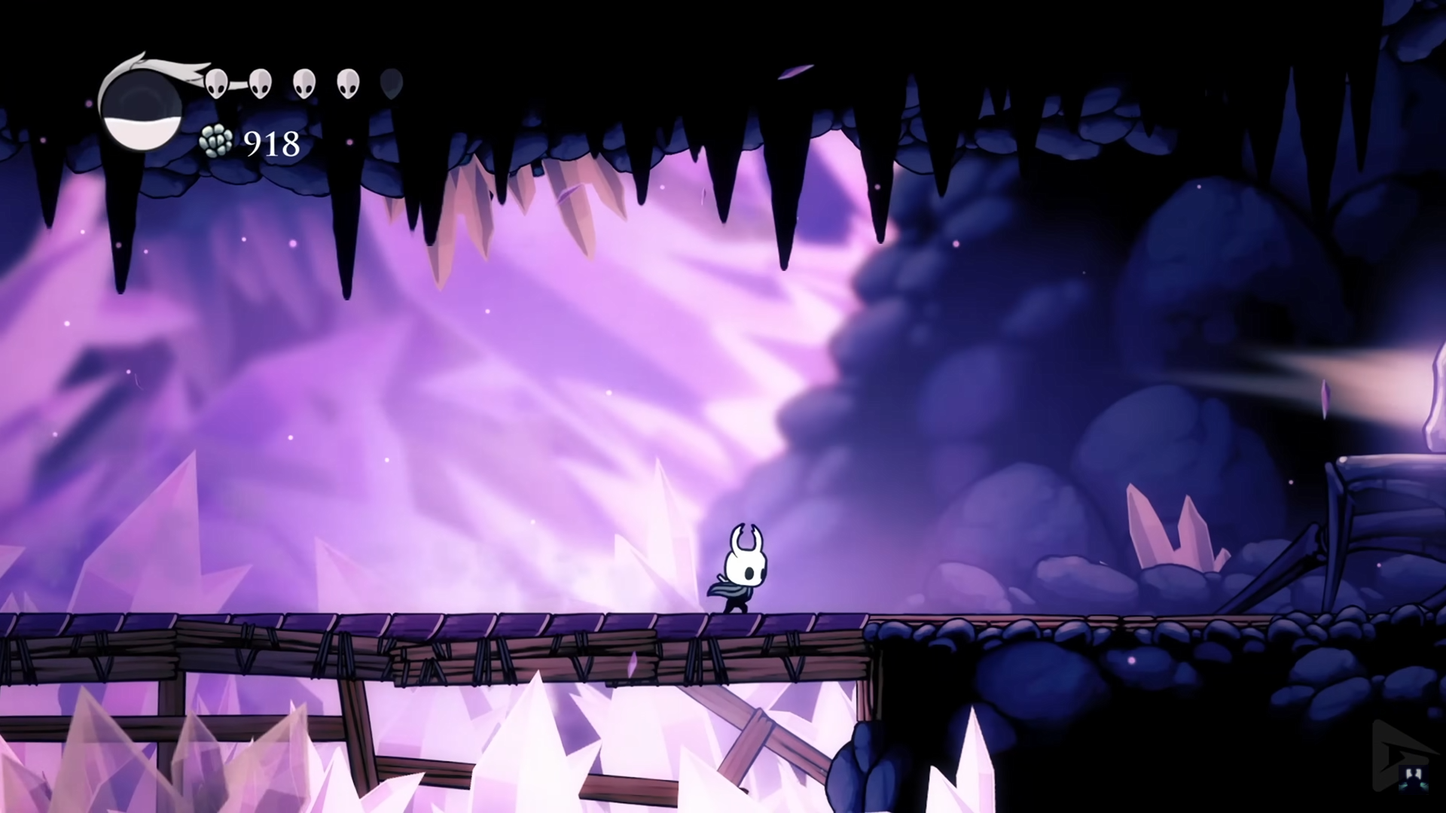HK: (709, 520, 774, 617)
